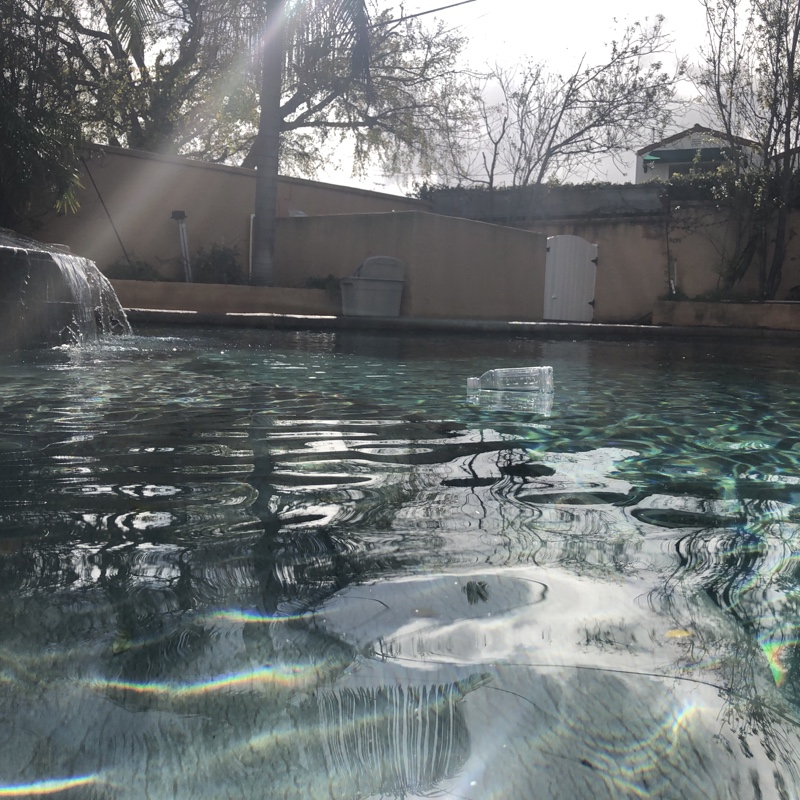Plastic Bottle: (459, 362, 555, 396)
